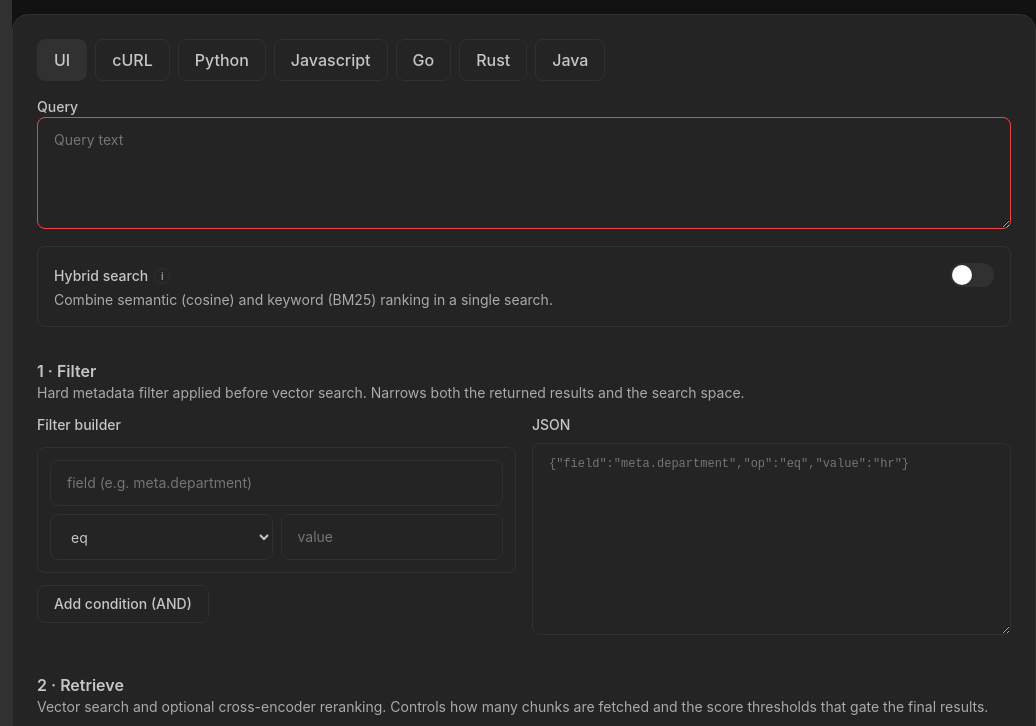
it: PlaygroundPage › runs query and shows results timeline
Type "hello" into the text box with placeholder "Query text" at (524, 173), box x1=37 y1=117 x2=1011 y2=229
(page scrolled)
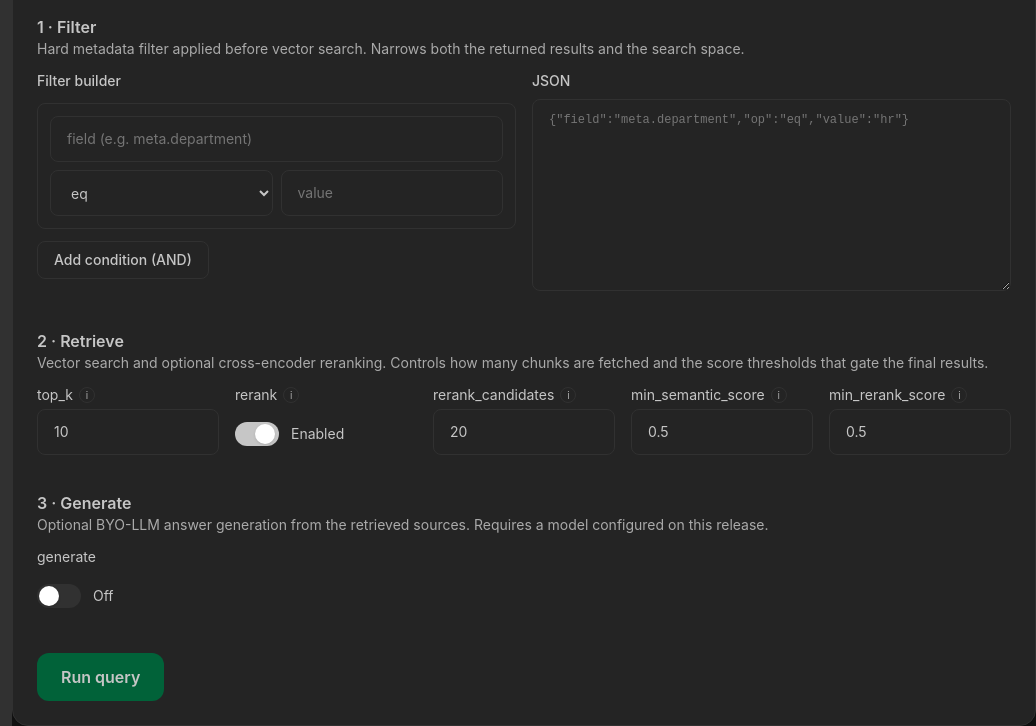
expect the button "Run query" is enabled: met
Click the button "Run query" at (101, 677), box x1=37 y1=653 x2=164 y2=701
(page scrolled)
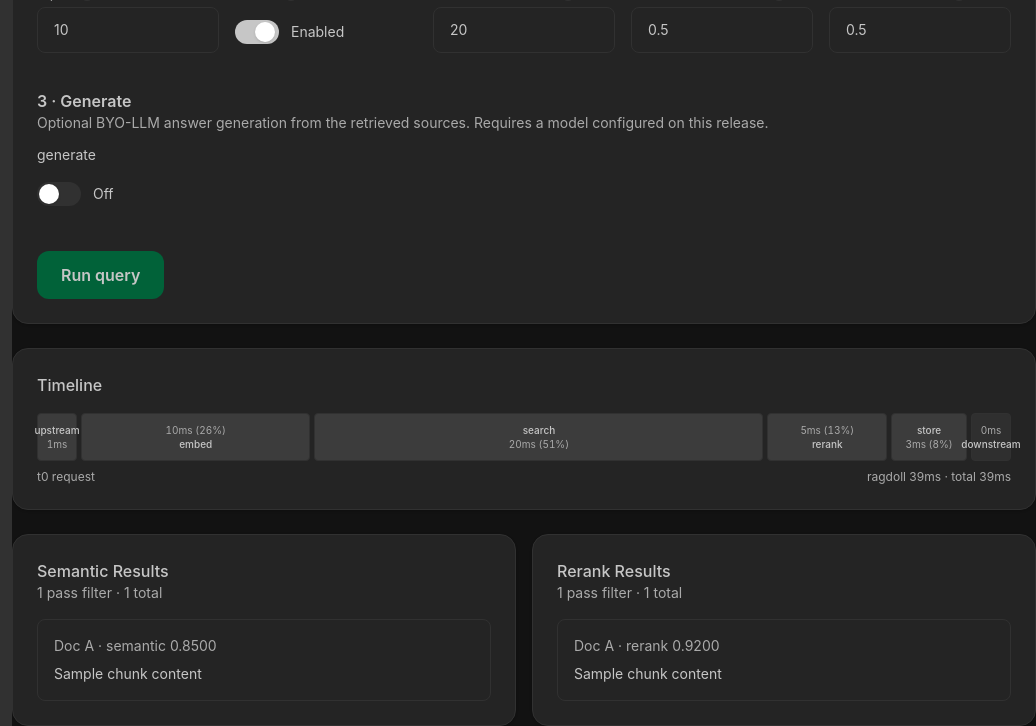
expect the heading "Timeline" is shown: met, box x1=37 y1=375 x2=102 y2=395
expect the heading "Semantic Results" is shown: met, box x1=37 y1=561 x2=169 y2=581
expect the text "Doc A · semantic 0.8500" is shown: met, box x1=54 y1=636 x2=217 y2=656
